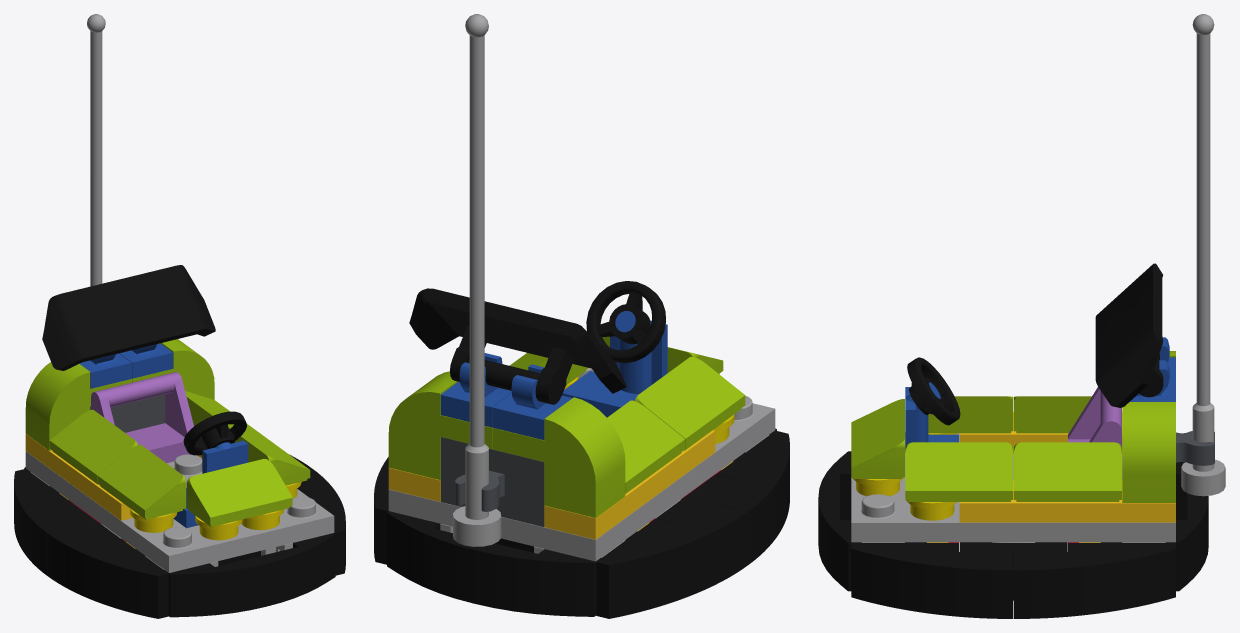
File: Bumper Car.fbx
3 views of the same model, side by side, from view 1: azimuth 30°, elevation 25°; view 2: azimuth 150°, elevation 25°; view 3: azimuth 270°, elevation 25° (orthographic). The views are drawn at different scales.
Parts seen in each view (by area): view 1: part.040, part, part.029, part.035, part.014, part.037, part.013, part.009, part.034, part.038, part.012, part.002 (+13 smaller); view 2: part.030, part.034, part.040, part.038, part.009, part, part.035, part.007, part.013, part.008, part.002, part.042 (+9 smaller); view 3: part.031, part.033, part, part.038, part.040, part.011, part.010, part.008, part.001, part.029, part.014, part.030 (+11 smaller).
Boxes of the visible parts, x1,y1,x2,y2 form: part.040: (42,265,215,370); part: (25,451,334,572); part.029: (164,533,335,617); part.035: (47,525,168,618); part.014: (186,459,292,526); part.037: (91,372,193,463); part.013: (97,444,185,519); part.009: (25,362,131,450); part.034: (14,469,79,575); part.038: (87,14,105,286); part.012: (49,409,137,484); part.002: (25,434,132,520); part.030: (387,511,601,616); part.034: (596,501,747,618); part.040: (409,288,626,404); part.038: (453,14,501,546); part.009: (492,397,625,517); part: (388,368,775,561); part.035: (707,430,789,564); part.007: (440,437,544,526); part.013: (635,356,745,450); part.008: (388,371,492,479); part.002: (544,430,715,539); part.042: (586,281,665,363); part.031: (851,543,1013,618); part.033: (1014,543,1175,618); part: (851,432,1175,542); part.038: (1181,14,1225,496); part.040: (1095,263,1163,407); part.011: (905,442,1013,501); part.010: (1014,442,1121,501); part.008: (1122,402,1175,502); part.001: (959,480,1175,522); part.029: (818,451,861,591); part.014: (851,399,904,478); part.030: (1165,462,1208,591).
Size of the model in its own units: 5116 by 8760 by 6003.
